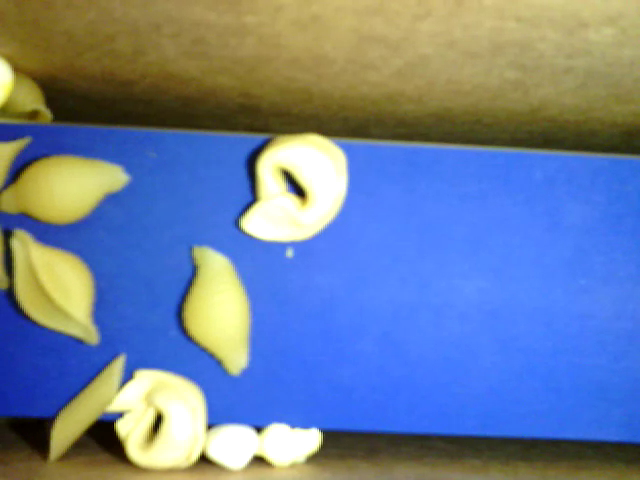penne: (49, 350, 130, 461)
shell: (11, 227, 98, 346), (1, 153, 132, 226), (183, 245, 251, 377), (1, 73, 58, 125)
tortellini: (236, 128, 354, 241), (107, 369, 208, 472)
